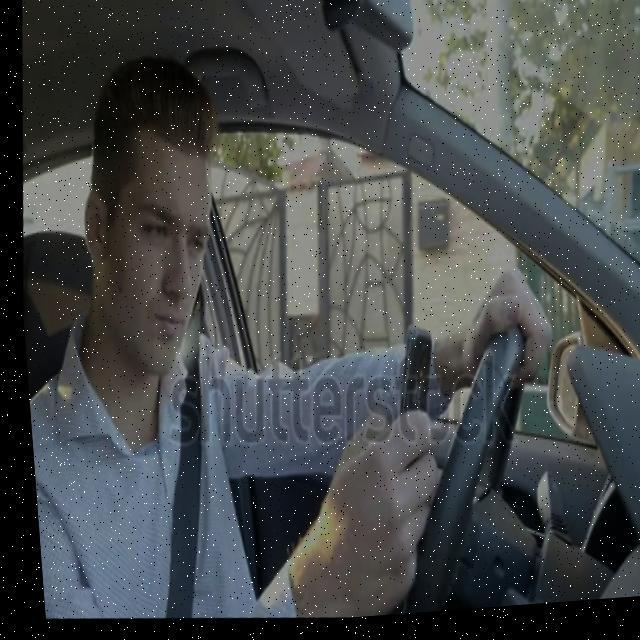PhoneCall: (387, 329, 437, 476)
